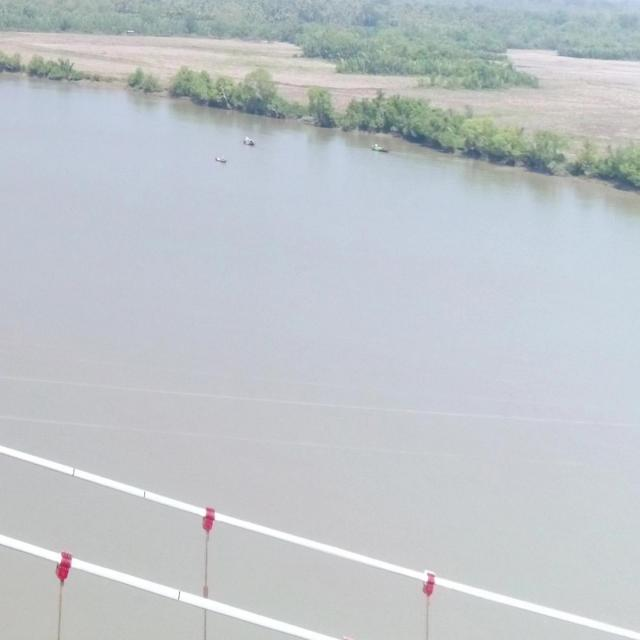crack: (177, 591, 181, 600), (72, 467, 75, 476), (143, 491, 146, 498)
